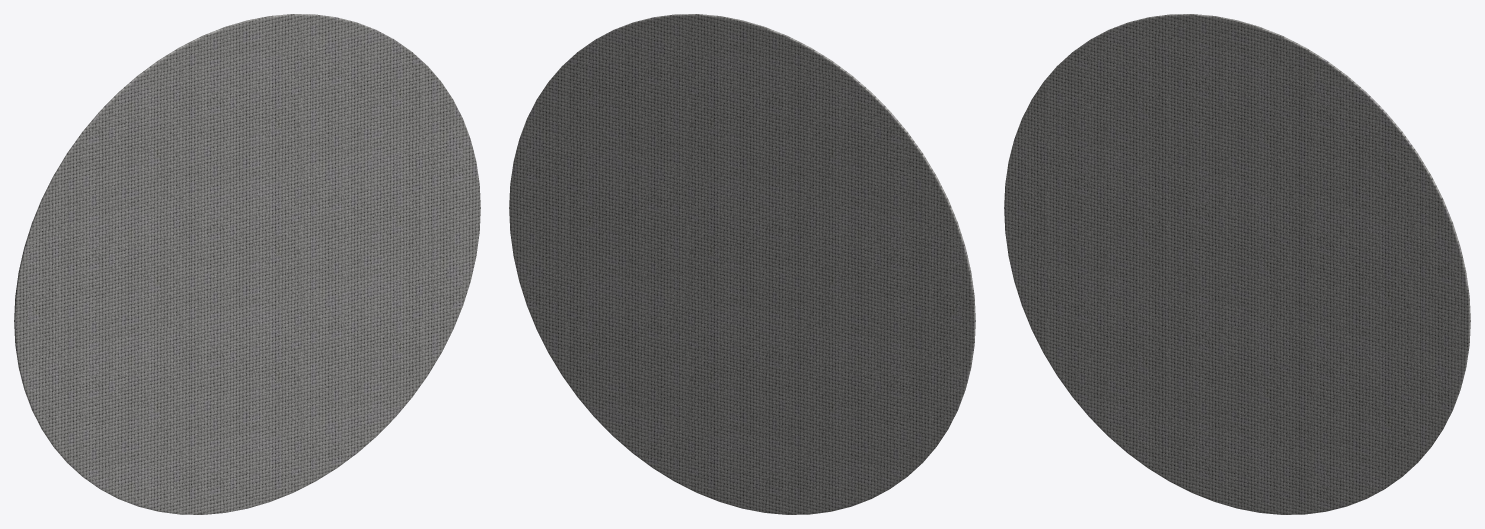
The model's file is button_austin18.glb.
The picture shows the model from 3 angles, left to right: view 1: azimuth 30°, elevation 25°; view 2: azimuth 150°, elevation 25°; view 3: azimuth 330°, elevation 25°; orthographic projection.
Parts seen in each view (by area): view 1: button_austin18; view 2: button_austin18; view 3: button_austin18.
Part boxes in pixels (x1,y1,x2,y2): button_austin18: [14, 14, 480, 514]; button_austin18: [509, 14, 975, 514]; button_austin18: [1004, 14, 1470, 514].
Bounding box in the file's own units: 0.4 × 0.4 × 0.002.
5 materials, 5 textured.
